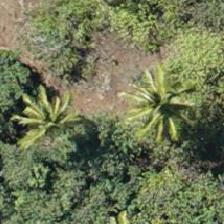coconut_tree: (8, 78, 98, 168), (121, 63, 211, 153), (62, 0, 152, 45)
